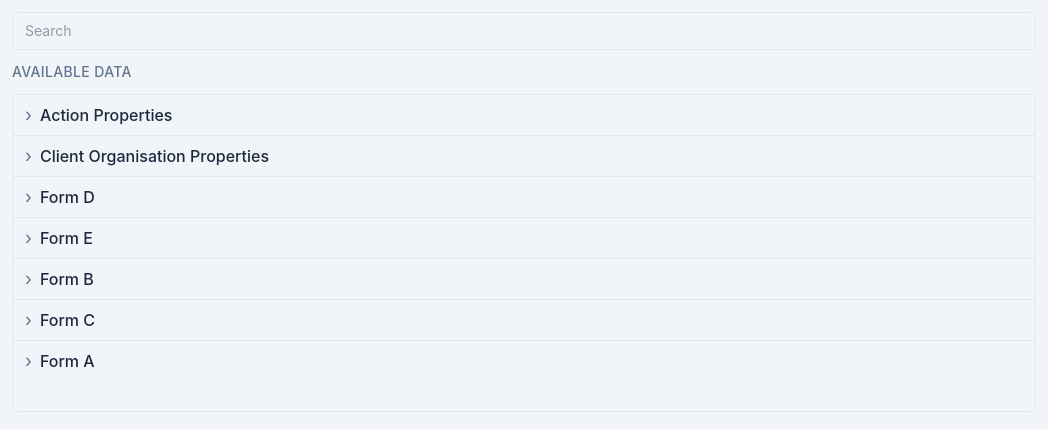
Test case: PrefillSourcePicker › shows a message when search matches nothing
Type "zzzz" into the search field labelled "Search". click: [524, 31]
box: [12, 12, 1036, 50]
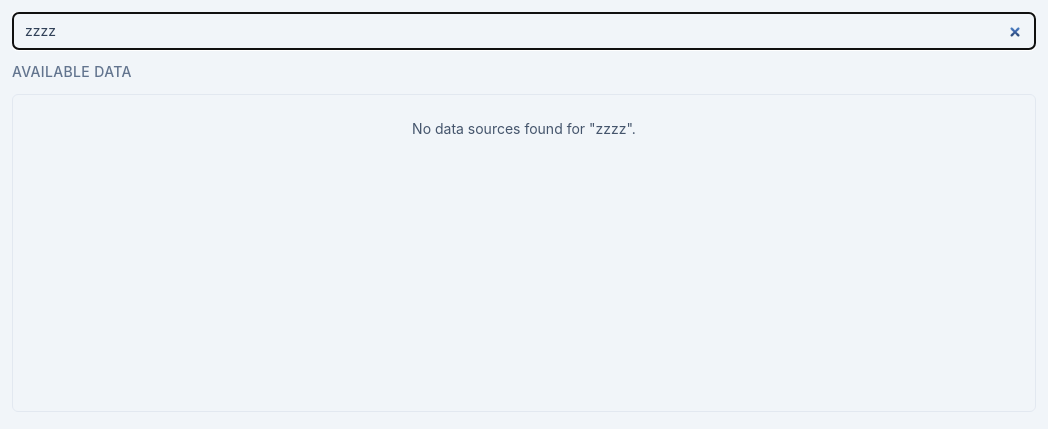
Result: the text "No data sources found for \"zzzz\"." is shown at [412, 120, 636, 137]
